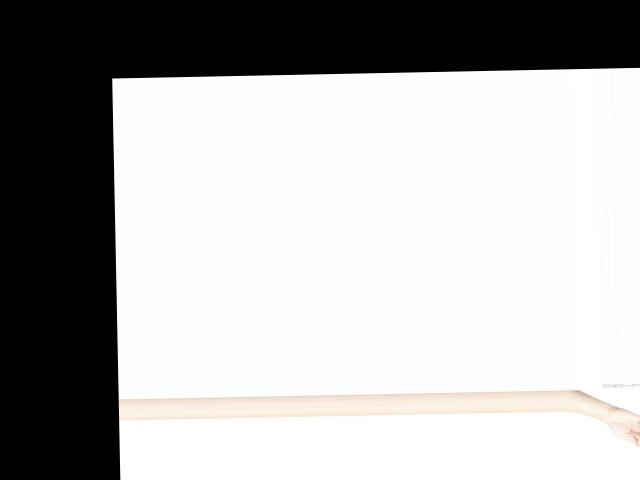egg: (637, 431, 640, 455)
